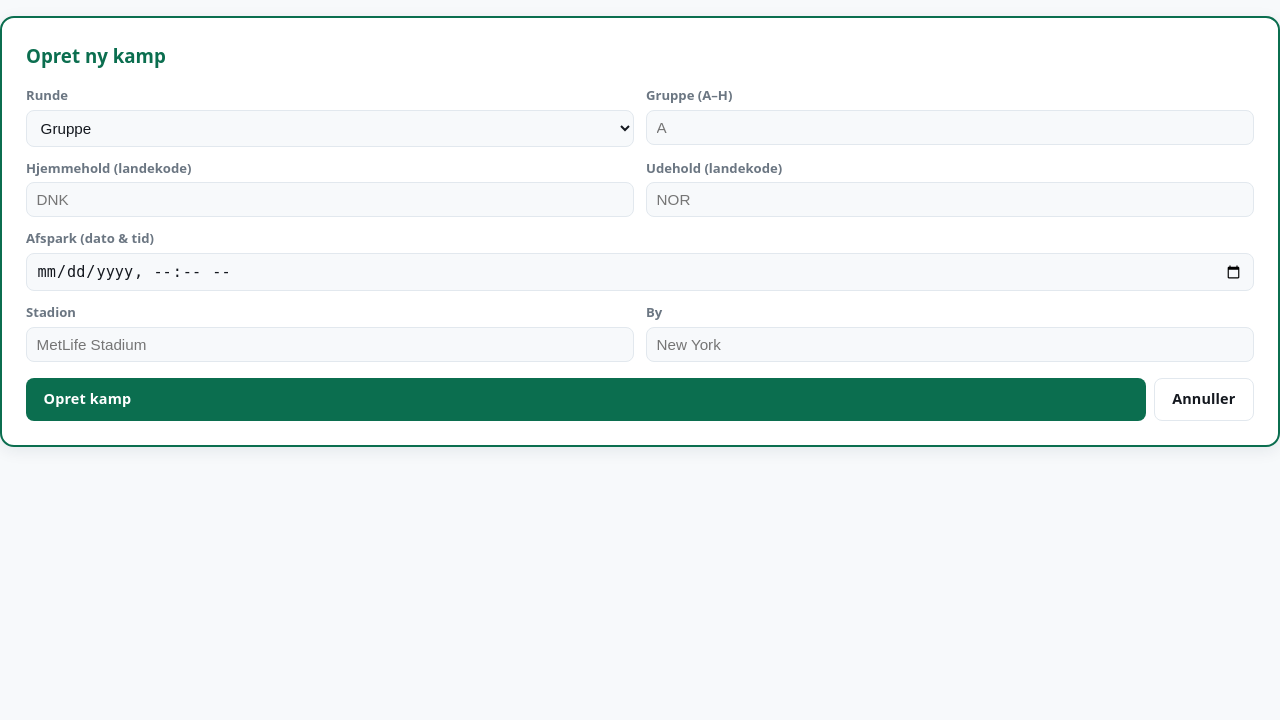
MatchCreateForm › viser fejl ved manglende afsparktidspunkt
Click the button "Opret kamp".
click(87, 399)  # box [26,378,1146,421]
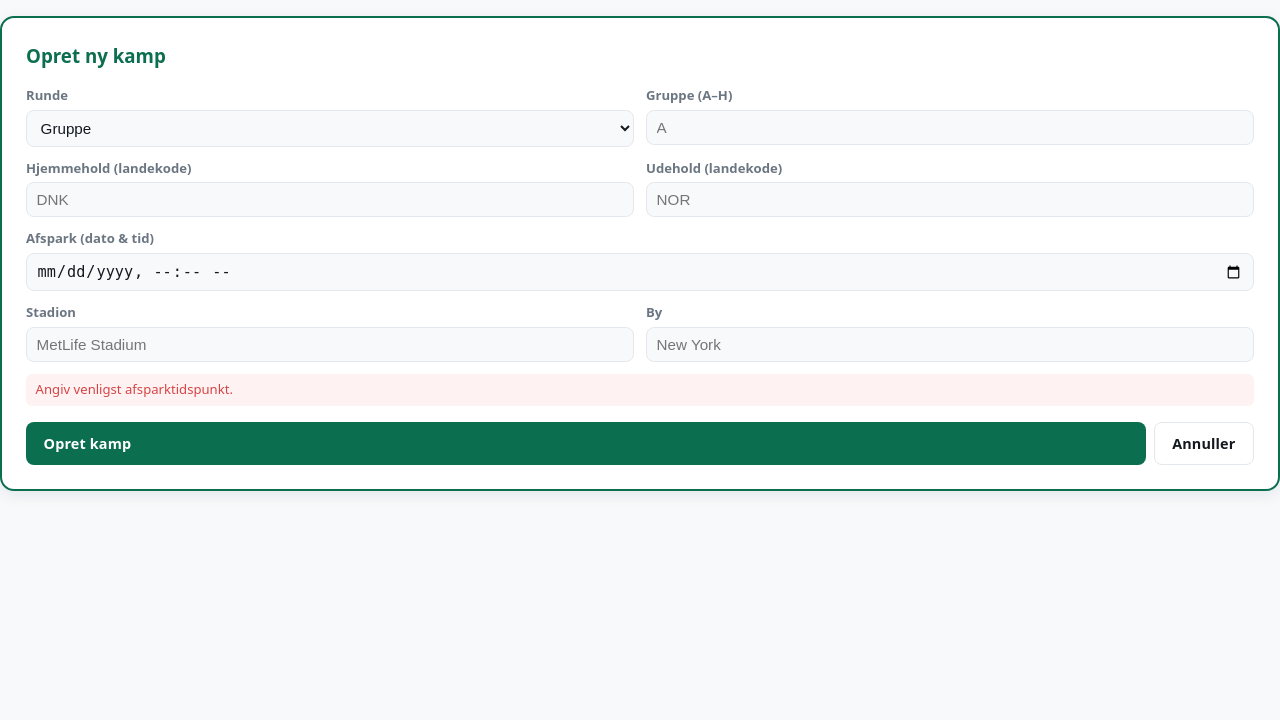
Expected: the message shows "afsparktidspunkt", [36,380,233,398]
